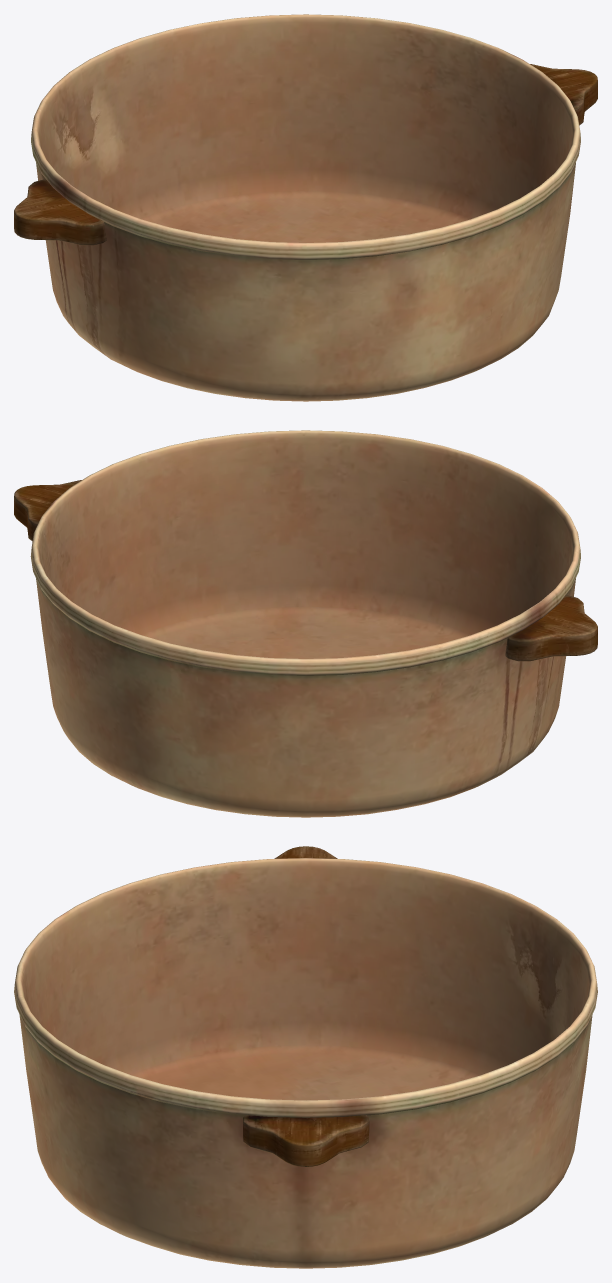
File: polyhaven-brass-pot-02.glb
3 views of the same model, one above another, from view 1: azimuth 30°, elevation 25°; view 2: azimuth 150°, elevation 25°; view 3: azimuth 270°, elevation 25° (orthographic). The views are drawn at different scales.
Parts seen in each view (by area): view 1: brass_pot_02_0; view 2: brass_pot_02_0; view 3: brass_pot_02_0.
Boxes of the visible parts, box(x1,y1,x2,y2) form: brass_pot_02_0: box(14, 14, 597, 401); brass_pot_02_0: box(14, 430, 597, 817); brass_pot_02_0: box(14, 846, 597, 1268).
Bounding box in the file's own units: 0.3667 × 0.1086 × 0.3023.
1 material, 1 textured.
